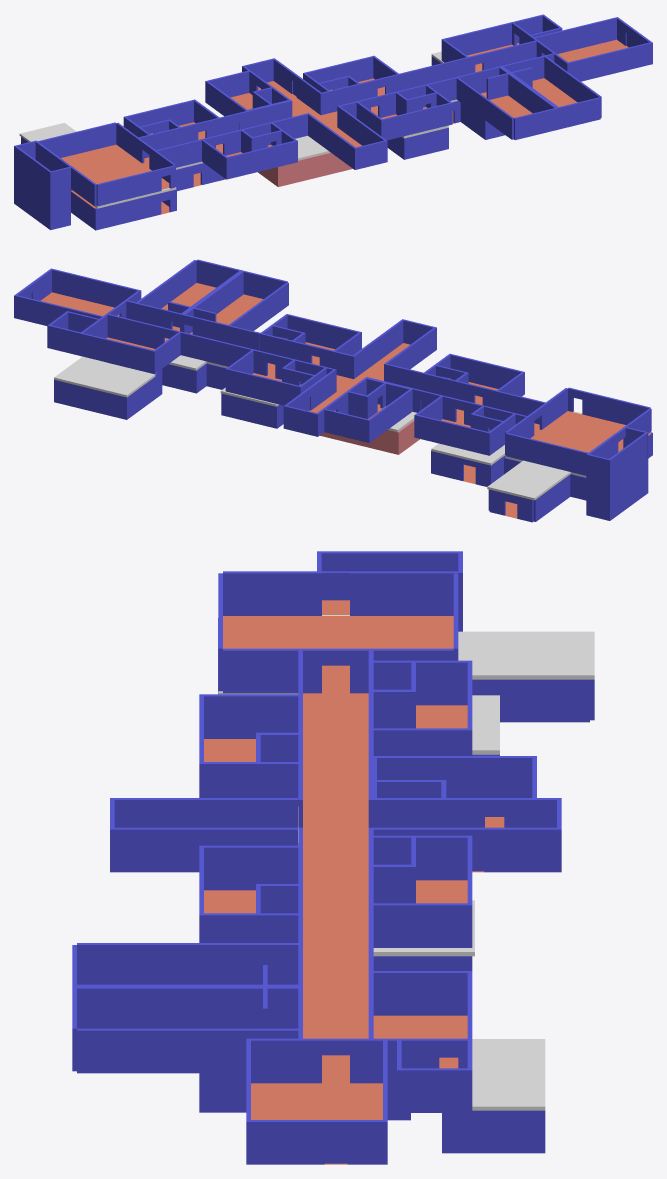
File: Mapa2.glb
3 renders of one model, top to bottom at view 1: azimuth 30°, elevation 25°; view 2: azimuth 150°, elevation 25°; view 3: azimuth 270°, elevation 25°, orthographic. The views are drawn at different scales.
Visible parts, largest first — view 1: PasilloHab2-col, BañosPiso2-col, Lobby2-col, FinalPiso2-col, Consejeria-col, Habitacion2-col, HabitacionJug-col, Habitacion1-col, Habitacion4-col, Lobby1-col, Habitacion3-col, EscalerasSeg-col (+11 smaller); view 2: PasilloHab2-col, BañosPiso2-col, Consejeria-col, Lobby2-col, Habitacion1-col, Habitacion3-col, FinalPiso2-col, Habitacion4-col, Habitacion2-col, HabitacionJug-col, EscalerasSeg-col, TechoMorgue-col (+15 smaller); view 3: BañosPiso2-col, PasilloHab2Piso-col, PasilloHab2-col, Lobby2-col, Consejeria-col, Habitacion3-col, Habitacion4-col, Habitacion2-col, FinalPiso2-col, HabitacionJug-col, Habitacion1-col, Lobby2Piso-col (+15 smaller).
Boxes of the visible parts, x1,y1,x2,y2 form: PasilloHab2-col: (138,41,555,169); BañosPiso2-col: (455,55,601,140); Lobby2-col: (37,122,175,206); FinalPiso2-col: (534,17,652,81); Consejeria-col: (441,14,562,73); Habitacion2-col: (201,122,297,179); HabitacionJug-col: (356,84,452,140); Habitacion1-col: (123,99,220,150); Habitacion4-col: (303,55,400,113); Lobby1-col: (71,189,176,230); Habitacion3-col: (205,70,290,116); EscalerasSeg-col: (14,140,72,195); PasilloHab2-col: (107,300,545,436); BañosPiso2-col: (135,259,288,342); Consejeria-col: (47,311,181,373); Lobby2-col: (505,387,651,475); Habitacion1-col: (414,395,516,455); Habitacion3-col: (322,378,412,442); FinalPiso2-col: (14,268,141,325); Habitacion4-col: (225,349,327,405); Habitacion2-col: (422,353,524,408); HabitacionJug-col: (259,314,361,368); EscalerasSeg-col: (586,427,648,485); TechoMorgue-col: (54,356,155,397); BañosPiso2-col: (72,943,302,1073); PasilloHab2Piso-col: (298,693,484,1083); PasilloHab2-col: (110,650,561,1083); Lobby2-col: (218,571,458,693); Consejeria-col: (368,971,472,1112); Habitacion3-col: (372,756,536,827); Habitacion4-col: (368,835,472,947); Habitacion2-col: (199,694,302,806); FinalPiso2-col: (246,1038,387,1164); HabitacionJug-col: (199,845,302,942); Habitacion1-col: (368,660,472,755); Lobby2Piso-col: (223,616,453,693).
Size of the model in its own units: 143 by 13.52 by 55.5.
